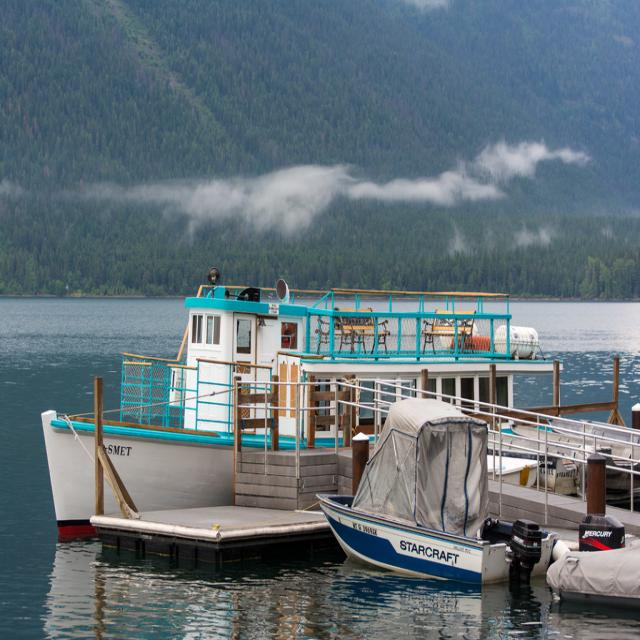Boat: (41, 269, 640, 600), (316, 398, 546, 589)
